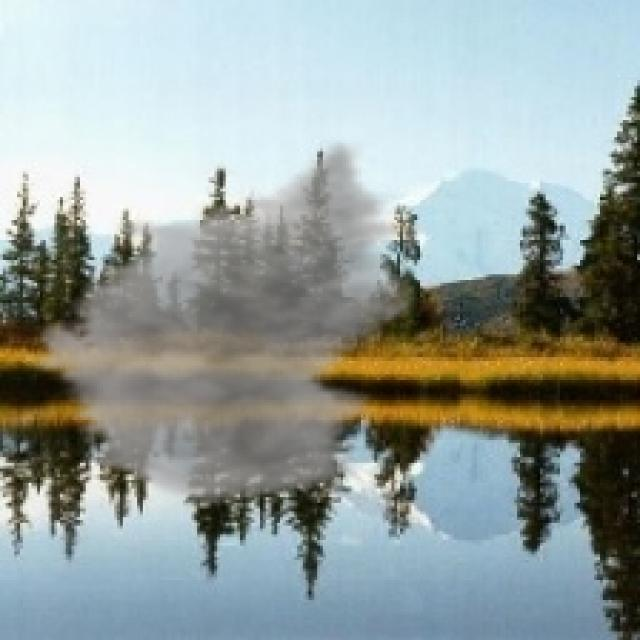smoke: (23, 137, 426, 509)
